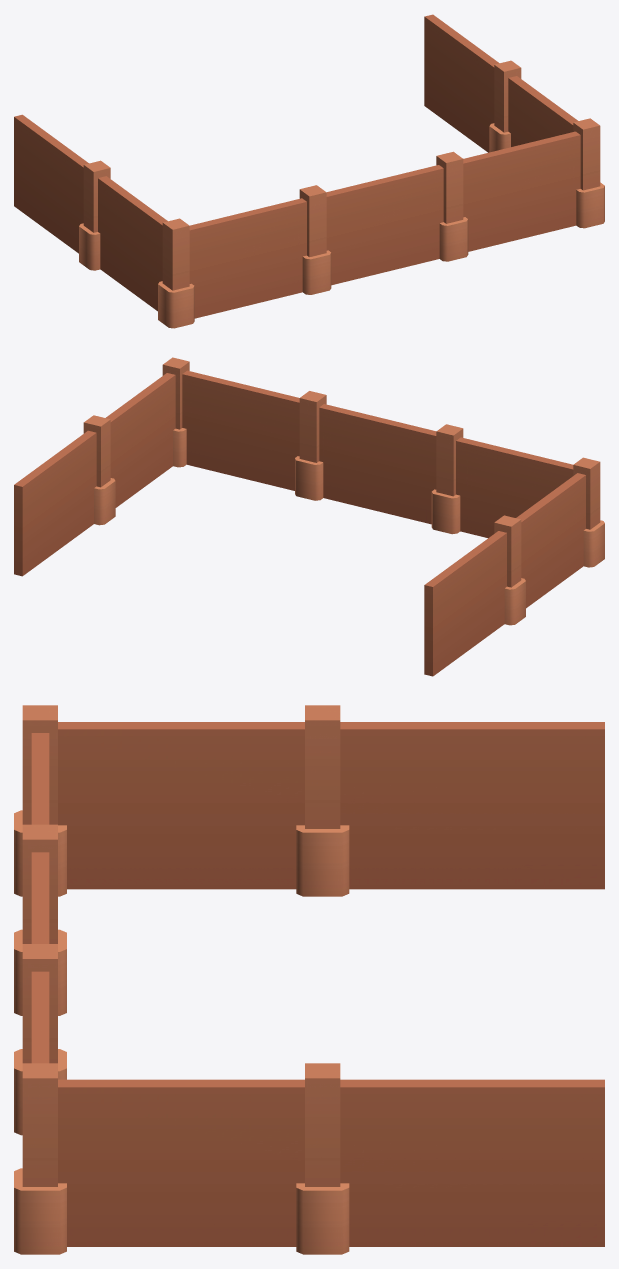
The model's file is fence-2x3.draco.glb.
3 renders of one model, top to bottom at view 1: azimuth 30°, elevation 25°; view 2: azimuth 150°, elevation 25°; view 3: azimuth 270°, elevation 25°, orthographic. The views are drawn at different scales.
Visible parts, largest first — view 1: fence-2x3; view 2: fence-2x3; view 3: fence-2x3.
Boxes of the visible parts, box(x1,y1,x2,y2) form: fence-2x3: box(14, 14, 604, 328); fence-2x3: box(14, 357, 604, 676); fence-2x3: box(14, 705, 604, 1254).
Bounding box in the file's own units: 1.28 × 0.27 × 0.8375.
1 material, 1 textured.
